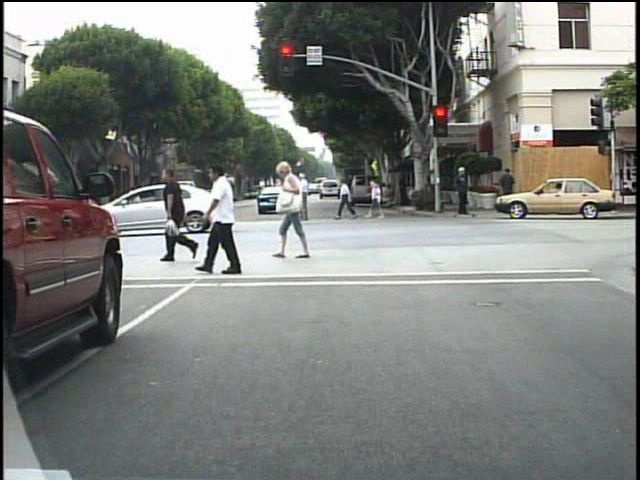person: (200, 161, 260, 279), (158, 160, 205, 267), (274, 162, 321, 263), (295, 170, 316, 225), (449, 163, 468, 221), (275, 176, 297, 224), (337, 174, 358, 224), (157, 177, 175, 231), (4, 189, 23, 237), (120, 178, 138, 226), (498, 166, 516, 213), (9, 197, 26, 237)
